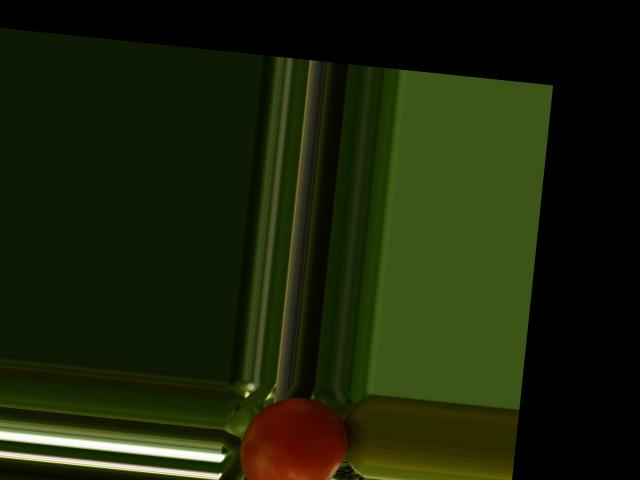tomato: (235, 391, 352, 480)
